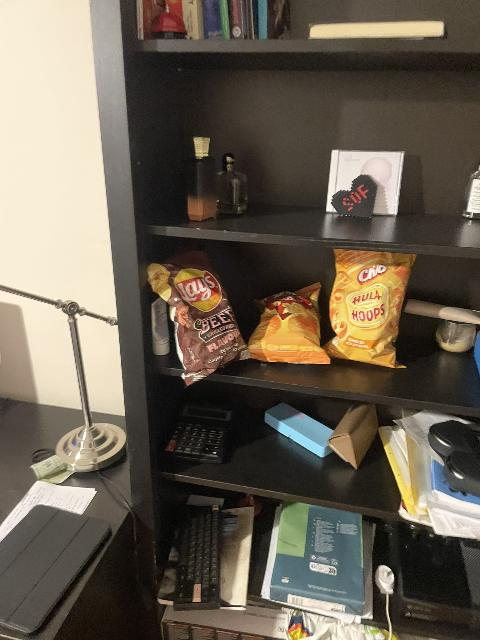Chio Cascaval 125g: (245, 283, 325, 366)
Chio Hula Hoops Cheese 70g: (328, 251, 419, 367)
Lays Beef Grilled Ribs 125g: (147, 249, 248, 382)
